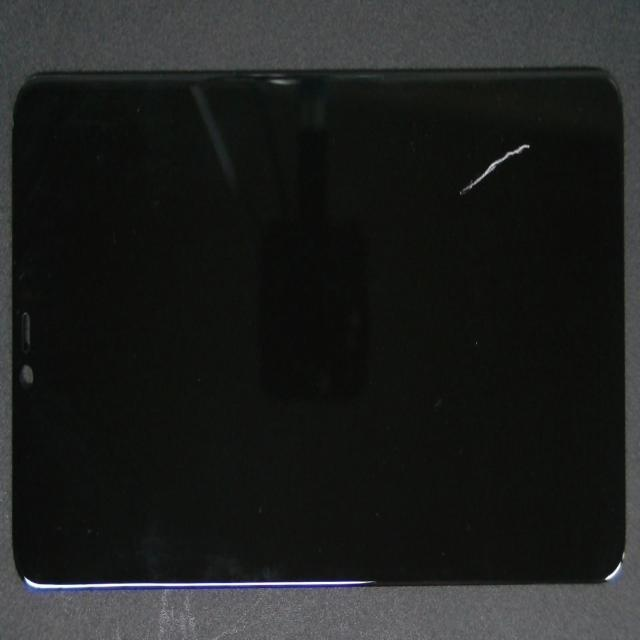scratch: (222, 66, 640, 281)
